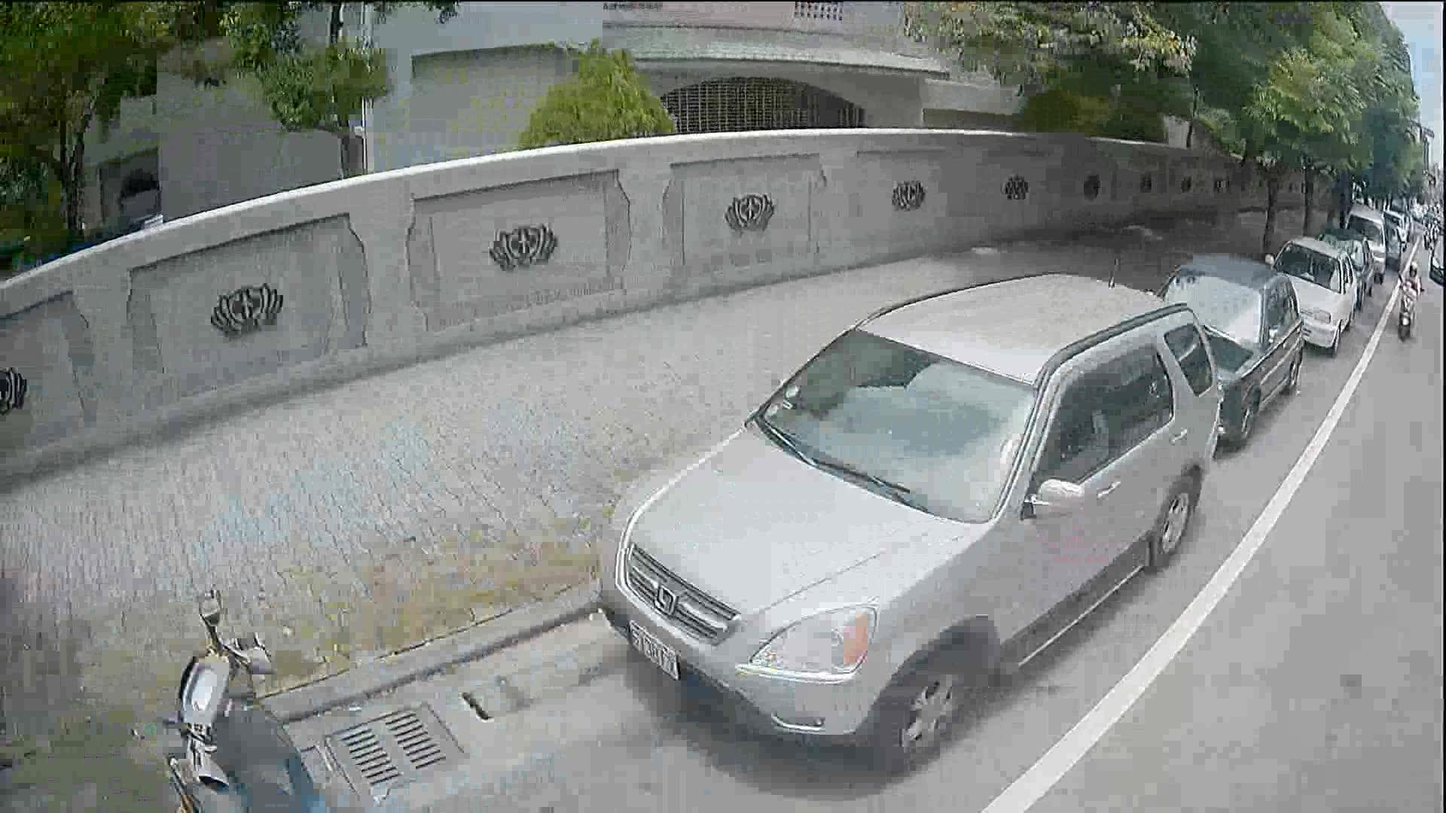person: (1399, 260, 1420, 290)
